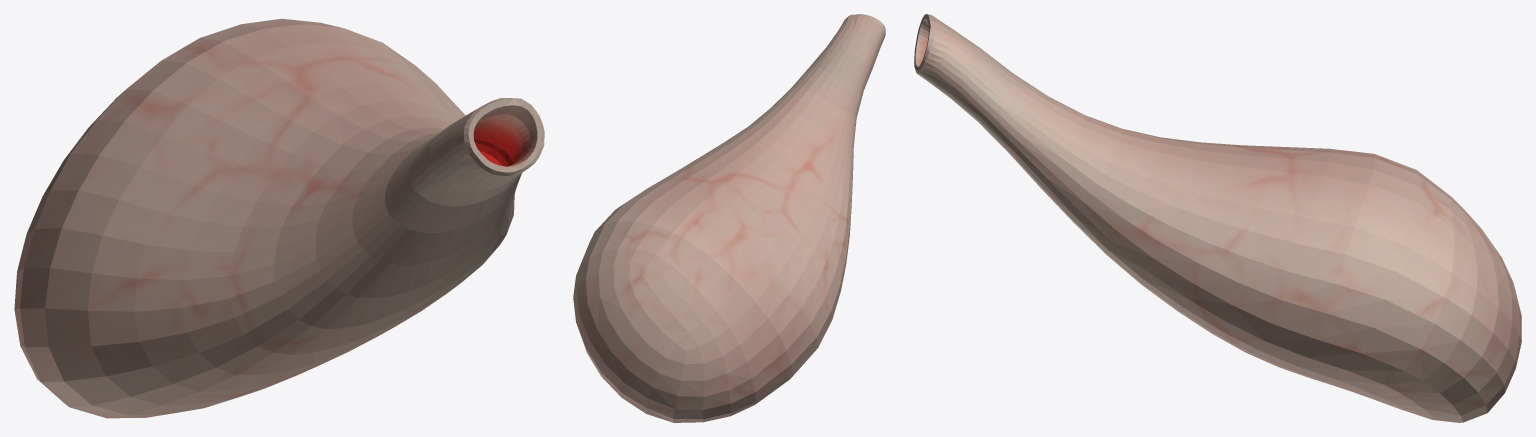
The model's file is bladder_LP.glb.
3 views of the same model, side by side, from view 1: azimuth 30°, elevation 25°; view 2: azimuth 150°, elevation 25°; view 3: azimuth 270°, elevation 25° (orthographic). The views are drawn at different scales.
Parts seen in each view (by area): view 1: bladder_LP; view 2: bladder_LP; view 3: bladder_LP.
Boxes of the visible parts, x1,y1,x2,y2 form: bladder_LP: [14, 18, 544, 418]; bladder_LP: [573, 14, 885, 422]; bladder_LP: [914, 14, 1521, 422].
Size of the model in its own units: 0.00143 by 0.00179 by 0.00252.
1 material, 1 textured.
